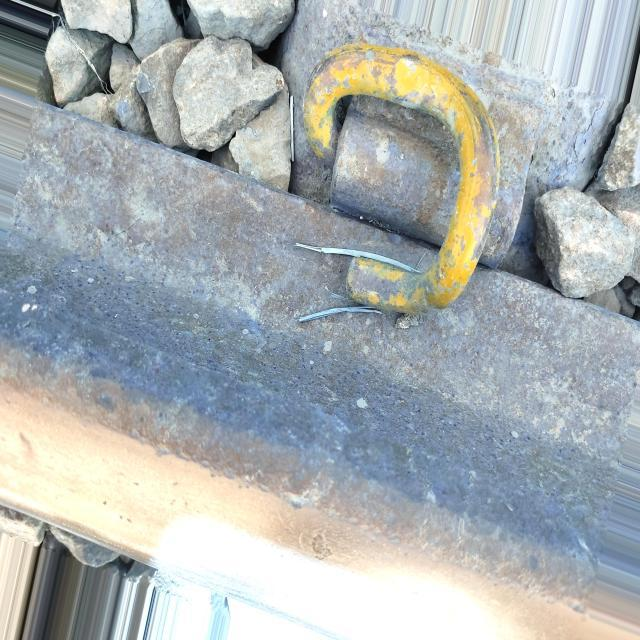Good Fasteners: (271, 7, 582, 359)
